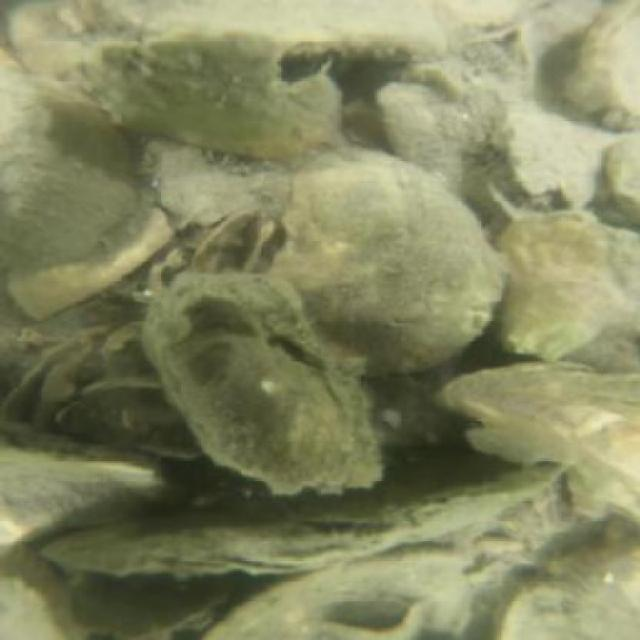Oyster-Closed: (33, 460, 573, 582)
Oyster-Indeterminate: (266, 142, 510, 384), (133, 269, 388, 500), (0, 69, 139, 274), (0, 411, 191, 552), (488, 528, 635, 637)
